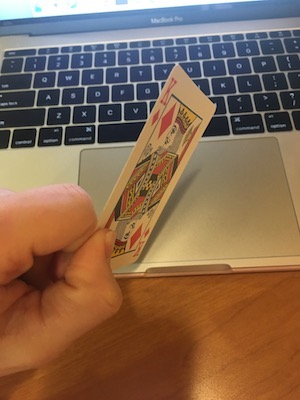KingOfDiamonds: (83, 69, 219, 281)
